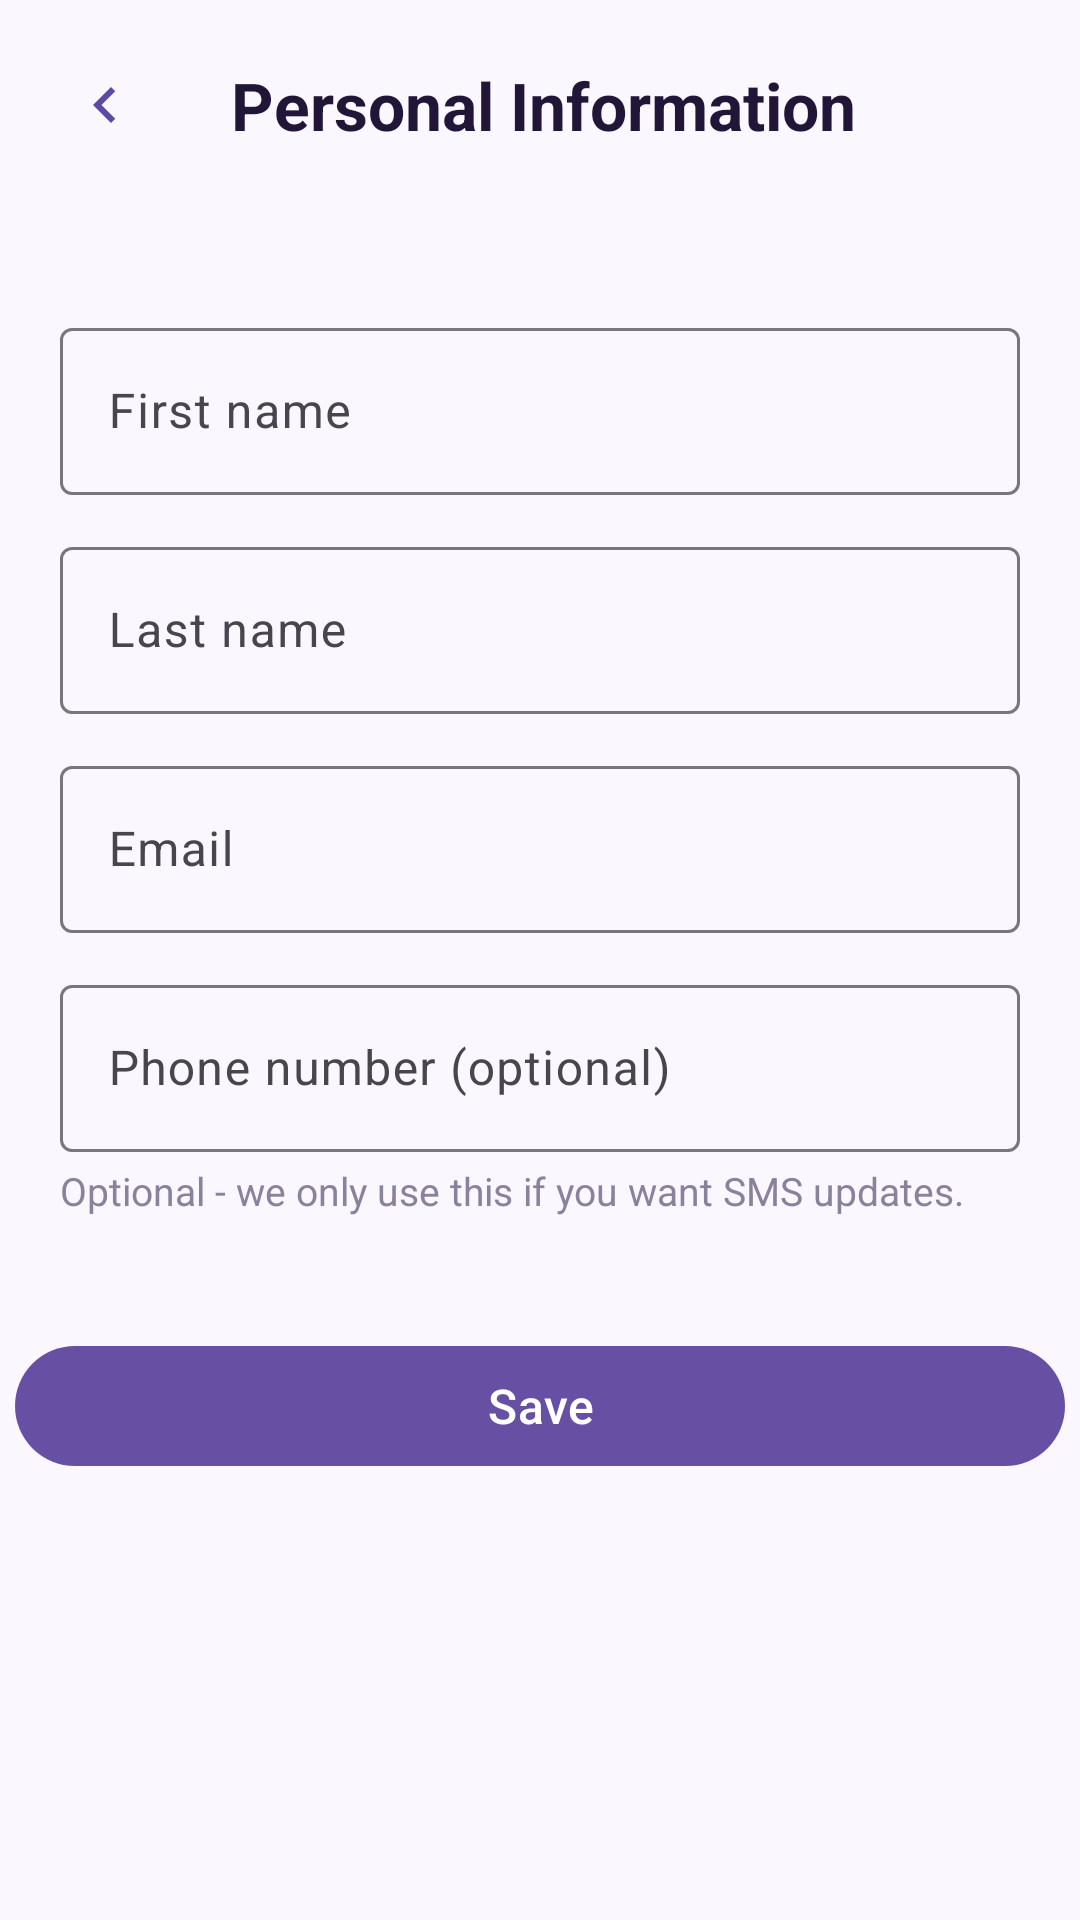

Icons on this 1080x1920 Android screen, each with its box as (x1, y1, x2, y2):
Back: (93, 87, 115, 123)
